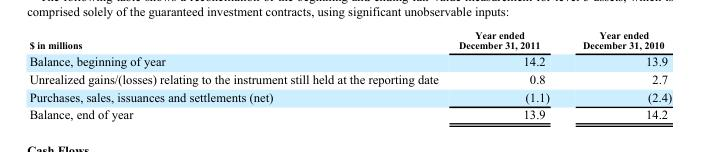table: (28, 29, 671, 121)
table column: (28, 29, 447, 121), (447, 29, 565, 121), (565, 29, 671, 121)
table column header: (28, 29, 671, 52)
table row: (28, 29, 671, 52), (28, 69, 671, 87), (28, 87, 671, 105), (28, 52, 671, 69), (28, 105, 671, 121)
